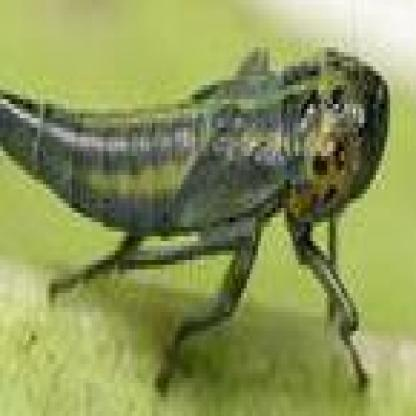Green-Leafhopper: (3, 36, 392, 406)
